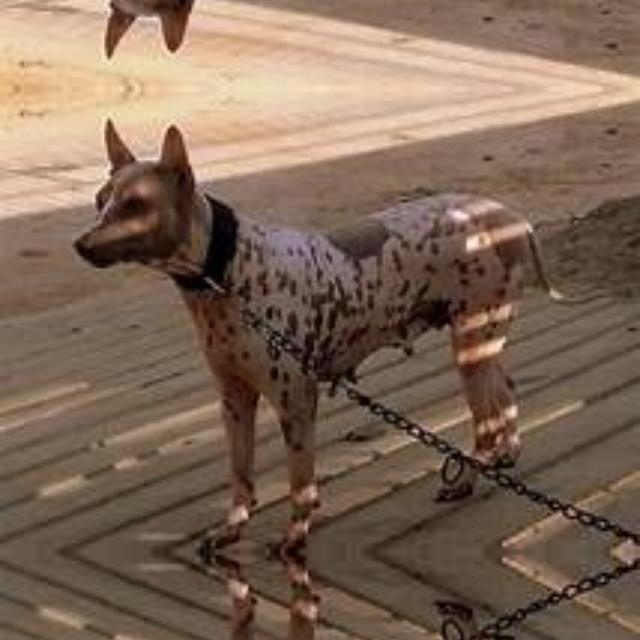dog: (44, 121, 556, 528), (44, 574, 556, 640), (44, 0, 556, 54)
